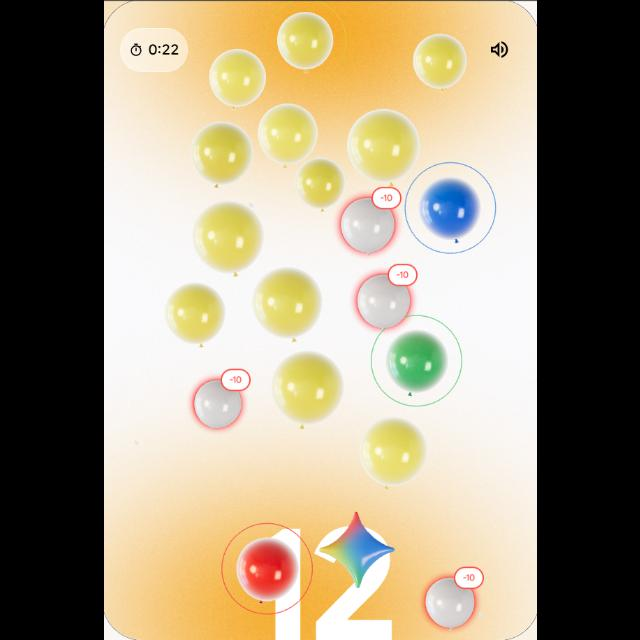gemini: (318, 508, 396, 592)
hazard: (335, 181, 401, 263), (354, 265, 418, 335), (423, 564, 482, 632), (190, 366, 250, 432)
safe: (192, 204, 266, 280), (346, 109, 418, 183), (270, 351, 340, 423), (252, 268, 321, 338), (359, 418, 425, 489), (190, 122, 252, 186), (258, 104, 316, 166), (164, 284, 222, 344), (208, 48, 264, 108), (411, 33, 465, 91), (293, 158, 343, 210)
sequence: (401, 160, 501, 256), (217, 522, 315, 618), (367, 318, 465, 412), (255, 0, 352, 84)
